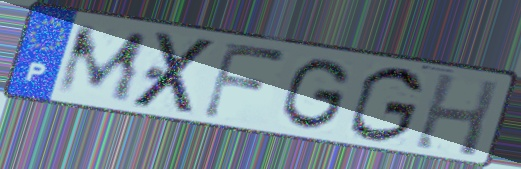F: (198, 38, 290, 123)
G: (345, 64, 427, 145), (278, 57, 354, 134)
H: (410, 70, 503, 160)
M: (51, 23, 151, 105)
X: (127, 30, 222, 116)
